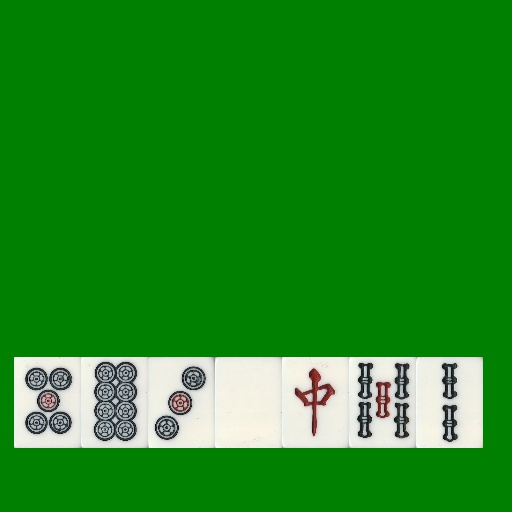2s: (416, 357, 483, 448)
3p: (148, 357, 215, 448)
5p: (14, 357, 81, 448)
5s: (349, 357, 416, 448)
8p: (81, 357, 148, 448)
tyun: (282, 357, 349, 448)
white: (215, 357, 282, 448)
